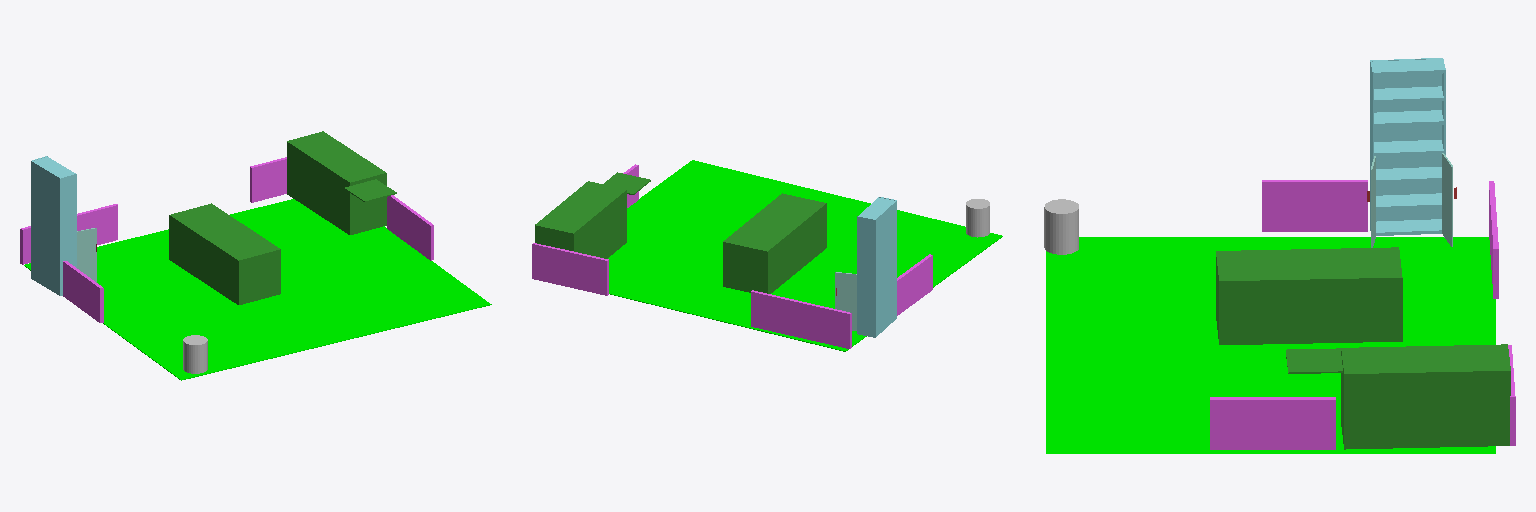
--- Facts derived from the render (not from the file) ---
The picture shows the robot from 3 angles, left to right: view 1: azimuth 30°, elevation 25°; view 2: azimuth 150°, elevation 25°; view 3: azimuth 270°, elevation 25°; orthographic projection.
Model iai-kitchen with 43 links and 42 joints (3 revolute, 39 fixed), rooted at urdf_main, posed all joints at 0.
Visible links, largest first — view 1: iai_kitchen:kitchen:room_center_link, dinner_table:dinner_table:table_center, kitchen_counter:kitchen_counter:table_center, shelf_hohc:kitchen_cabinet:shelf_back, wall_2_link, wall_3_link, wall_4_link, shelf_hohc:kitchen_cabinet:shelf_left_side, wall_1_link, shelf_hohc:kitchen_cabinet:shelf_door_left, trashcan:trashcan:trashcan_center, dishwasher_table:d_table:table_center; view 2: iai_kitchen:kitchen:room_center_link, dinner_table:dinner_table:table_center, kitchen_counter:kitchen_counter:table_center, wall_4_link, wall_1_link, shelf_hohc:kitchen_cabinet:shelf_back, shelf_hohc:kitchen_cabinet:shelf_right_side, wall_3_link, shelf_hohc:kitchen_cabinet:shelf_door_right, trashcan:trashcan:trashcan_center, dishwasher_table:d_table:table_center; view 3: iai_kitchen:kitchen:room_center_link, dinner_table:dinner_table:table_center, kitchen_counter:kitchen_counter:table_center, wall_2_link, wall_3_link, shelf_hohc:kitchen_cabinet:shelf_back, trashcan:trashcan:trashcan_center, dishwasher_table:d_table:table_center, shelf_hohc:kitchen_cabinet:shelf_floor_6, shelf_hohc:kitchen_cabinet:shelf_floor_4, shelf_hohc:kitchen_cabinet:shelf_floor_3, shelf_hohc:kitchen_cabinet:shelf_floor_5 (+5 smaller).
Link boxes in pixels (x1,y1,x2,y2): iai_kitchen:kitchen:room_center_link: (24,199,491,380); dinner_table:dinner_table:table_center: (169,203,280,304); kitchen_counter:kitchen_counter:table_center: (287,131,386,234); shelf_hohc:kitchen_cabinet:shelf_back: (31,161,60,295); wall_2_link: (387,195,433,260); wall_3_link: (63,261,103,322); wall_4_link: (20,204,117,264); shelf_hohc:kitchen_cabinet:shelf_left_side: (61,173,76,295); wall_1_link: (250,157,286,202); shelf_hohc:kitchen_cabinet:shelf_door_left: (77,228,96,282); trashcan:trashcan:trashcan_center: (183,335,207,373); dishwasher_table:d_table:table_center: (344,179,396,202); iai_kitchen:kitchen:room_center_link: (608,160,1002,351); dinner_table:dinner_table:table_center: (723,193,826,293); kitchen_counter:kitchen_counter:table_center: (535,181,626,258); wall_4_link: (751,290,851,348); wall_1_link: (532,243,608,295); shelf_hohc:kitchen_cabinet:shelf_back: (874,200,896,337); shelf_hohc:kitchen_cabinet:shelf_right_side: (857,216,874,337); wall_3_link: (897,254,932,315); shelf_hohc:kitchen_cabinet:shelf_door_right: (835,272,856,330); trashcan:trashcan:trashcan_center: (966,199,989,237); dishwasher_table:d_table:table_center: (604,172,650,194); iai_kitchen:kitchen:room_center_link: (1046,237,1495,453); dinner_table:dinner_table:table_center: (1216,247,1402,344); kitchen_counter:kitchen_counter:table_center: (1341,344,1510,449); wall_2_link: (1210,397,1335,449); wall_3_link: (1262,180,1367,231); shelf_hohc:kitchen_cabinet:shelf_back: (1370,58,1441,221); trashcan:trashcan:trashcan_center: (1044,199,1078,254); dishwasher_table:d_table:table_center: (1286,348,1342,373); shelf_hohc:kitchen_cabinet:shelf_floor_6: (1370,59,1445,75); shelf_hohc:kitchen_cabinet:shelf_floor_4: (1370,110,1445,126); shelf_hohc:kitchen_cabinet:shelf_floor_3: (1370,140,1445,156); shelf_hohc:kitchen_cabinet:shelf_floor_5: (1370,86,1443,103).
Bounding box of the posed robot: 5.77 × 5.13 × 2.08 m (x, y, z).
0 mesh visuals loaded from 3 distinct referenced files (none loaded); not drawn: 3 (reference not matched to a file when rendering).

URDF robot description (iai-kitchen):
<?xml version="1.0" ?>
<robot name="iai-kitchen" version="1.0">
  <material name="table_grey">
    <color rgba="0.255 0.62 0.223 1.0"/>
  </material>
  <material name="round_table_grey">
    <color rgba="0.8 0.8 0.8 1.0"/>
  </material>
  <material name="wall_pink">
    <color rgba="0.95 0.43 0.96 1.0"/>
  </material>
  <material name="shelf_blue">
    <color rgba="0.59 0.88 0.9 1.0"/>
  </material>
  <material name="shelf_door_green">
    <color rgba="0.64 0.87 0.82 1.0"/>
  </material>
  <material name="shelf_openable_handle_red">
    <color rgba="0.74 0.25 0.25 1.0"/>
  </material>
  <material name="shelf_hohc_handle_red">
    <color rgba="0.74 0.25 0.25 1.0"/>
  </material>
  <material name="door_green">
    <color rgba="0.0 0.31 0.22 1.0"/>
  </material>
  <material name="hinge_red">
    <color rgba="0.74 0.25 0.25 1.0"/>
  </material>
  <material name="handle_blue">
    <color rgba="0.3 0.5 0.78 1.0"/>
  </material>
  <material name="bucket_grey">
    <color rgba="0.8 0.8 0.8 1.0"/>
  </material>
  <material name="white">
    <color rgba="1.0 1.0 1.0 1.0"/>
  </material>
  <material name="orange">
    <color rgba="1.0 0.7 0.0 1.0"/>
  </material>
  <material name="handle_white">
    <color rgba="1.0 1.0 1.0 1.0"/>
  </material>
  <material name="bottom_white">
    <color rgba="1.0 1.0 1.0 1.0"/>
  </material>
  <material name="frame_wood">
    <color rgba="0.68 0.63 0.47 1.0"/>
  </material>
  <material name="handle_grey">
    <color rgba="0.7 0.7 0.7 1.0"/>
  </material>
  <material name="dishwasher_table_color">
    <color rgba="0.255 0.62 0.223 1.0"/>
  </material>
  <material name="dishwasher_robocup_table_color">
    <color rgba="0.255 0.62 0.223 1.0"/>
  </material>
  <material name="color_grey">
    <color rgba="0.8 0.8 0.8 1.0"/>
  </material>
  <material name="color_red">
    <color rgba="1.0 0.0 0.0 1.0"/>
  </material>
  <material name="color_blue">
    <color rgba="0.0 0.0 1.0 1.0"/>
  </material>
  <material name="simple_couch_color_grey">
    <color rgba="0.8 0.8 0.8 1.0"/>
  </material>
  <material name="simple_couch_color_red">
    <color rgba="1.0 0.0 0.0 1.0"/>
  </material>
  <material name="simple_couch_color_blue">
    <color rgba="0.0 0.0 1.0 1.0"/>
  </material>
  <material name="trashcan_color">
    <color rgba="0.8 0.8 0.8 1.0"/>
  </material>
  <material name="chair_color">
    <color rgba="0.0 0.0 0.5 1.0"/>
  </material>
  <material name="coathanger_color">
    <color rgba="0.255 0.62 0.223 1.0"/>
  </material>
  <material name="lamp_color">
    <color rgba="0.8 0.8 0.8 1.0"/>
  </material>
  <link name="dinner_table:dinner_table:table_center">
    <inertial>
      <origin xyz="0.0 0.0 0.0" rpy="0.0 0.0 0.0"/>
      <mass value="1.0"/>
      <inertia ixx="0.1" ixy="0.0" ixz="0.0" iyy="0.1" iyz="0.0" izz="0.1"/>
    </inertial>
    <visual>
      <origin xyz="0.0 0.0 -0.385" rpy="0.0 0.0 0.0"/>
      <geometry>
        <box size="0.782 2.0 0.77"/>
      </geometry>
      <material name="table_grey"/>
    </visual>
    <collision>
      <origin xyz="0.0 0.0 -0.385" rpy="0.0 0.0 0.0"/>
      <geometry>
        <box size="0.782 2.0 0.77"/>
      </geometry>
    </collision>
  </link>
  <link name="dinner_table:dinner_table:table_origin"/>
  <link name="dinner_table:dinner_table:table_front_edge_center"/>
  <joint name="dinner_table:dinner_table:table_origin_joint" type="fixed">
    <origin xyz="8.1 5.73 0.0" rpy="0.0 0.0 3.189"/>
    <parent link="urdf_offset"/>
    <child link="dinner_table:dinner_table:table_origin"/>
  </joint>
  <joint name="dinner_table:dinner_table:center_joint" type="fixed">
    <origin xyz="0.391 1.0 0.77" rpy="0.0 0.0 0.0"/>
    <parent link="dinner_table:dinner_table:table_origin"/>
    <child link="dinner_table:dinner_table:table_center"/>
  </joint>
  <joint name="dinner_table:dinner_table:table_front_edge_center_joint" type="fixed">
    <origin xyz="0.0 1.0 0.77" rpy="0.0 0.0 0.0"/>
    <parent link="dinner_table:dinner_table:table_origin"/>
    <child link="dinner_table:dinner_table:table_front_edge_center"/>
  </joint>
  <link name="kitchen_counter:kitchen_counter:table_center">
    <inertial>
      <origin xyz="0.0 0.0 0.0" rpy="0.0 0.0 0.0"/>
      <mass value="1.0"/>
      <inertia ixx="0.1" ixy="0.0" ixz="0.0" iyy="0.1" iyz="0.0" izz="0.1"/>
    </inertial>
    <visual>
      <origin xyz="0.0 0.0 -0.4525" rpy="0.0 0.0 0.0"/>
      <geometry>
        <box size="0.68 1.82 0.905"/>
      </geometry>
      <material name="table_grey"/>
    </visual>
    <collision>
      <origin xyz="0.0 0.0 -0.4525" rpy="0.0 0.0 0.0"/>
      <geometry>
        <box size="0.68 1.82 0.905"/>
      </geometry>
    </collision>
  </link>
  <link name="kitchen_counter:kitchen_counter:table_origin"/>
  <link name="kitchen_counter:kitchen_counter:table_front_edge_center"/>
  <joint name="kitchen_counter:kitchen_counter:table_origin_joint" type="fixed">
    <origin xyz="10.2 5.06 0.0" rpy="0.0 0.0 0.05"/>
    <parent link="urdf_offset"/>
    <child link="kitchen_counter:kitchen_counter:table_origin"/>
  </joint>
  <joint name="kitchen_counter:kitchen_counter:center_joint" type="fixed">
    <origin xyz="0.34 0.91 0.905" rpy="0.0 0.0 0.0"/>
    <parent link="kitchen_counter:kitchen_counter:table_origin"/>
    <child link="kitchen_counter:kitchen_counter:table_center"/>
  </joint>
  <joint name="kitchen_counter:kitchen_counter:table_front_edge_center_joint" type="fixed">
    <origin xyz="0.0 0.91 0.905" rpy="0.0 0.0 0.0"/>
    <parent link="kitchen_counter:kitchen_counter:table_origin"/>
    <child link="kitchen_counter:kitchen_counter:table_front_edge_center"/>
  </joint>
  <joint name="wall_1_center_joint" type="fixed">
    <origin xyz="10.14 6.91 0.3" rpy="0 0 0"/>
    <parent link="urdf_offset"/>
    <child link="wall_1_link"/>
  </joint>
  <link name="wall_1_link">
    <inertial>
      <origin xyz="0.0 0.0 0.0" rpy="0.0 0.0 0.0"/>
      <mass value="1.0"/>
      <inertia ixx="0.1" ixy="0.0" ixz="0.0" iyy="0.1" iyz="0.0" izz="0.1"/>
    </inertial>
    <visual>
      <origin xyz="0.0 0.0 0.0" rpy="0.0 0.0 0.03029375991877435"/>
      <geometry>
        <box size="1.3206059215375345 0.06 0.6"/>
      </geometry>
      <material name="wall_pink"/>
    </visual>
    <collision>
      <origin xyz="0.0 0.0 0.0" rpy="0.0 0.0 0.03029375991877435"/>
      <geometry>
        <box size="1.3206059215375345 0.06 0.6"/>
      </geometry>
    </collision>
  </link>
  <joint name="wall_2_center_joint" type="fixed">
    <origin xyz="10.85 4.3149999999999995 0.3" rpy="0 0 0"/>
    <parent link="urdf_offset"/>
    <child link="wall_2_link"/>
  </joint>
  <link name="wall_2_link">
    <inertial>
      <origin xyz="0.0 0.0 0.0" rpy="0.0 0.0 0.0"/>
      <mass value="1.0"/>
      <inertia ixx="0.1" ixy="0.0" ixz="0.0" iyy="0.1" iyz="0.0" izz="0.1"/>
    </inertial>
    <visual>
      <origin xyz="0.0 0.0 0.0" rpy="0.0 0.0 1.5707963267948966"/>
      <geometry>
        <box size="1.37 0.06 0.6"/>
      </geometry>
      <material name="wall_pink"/>
    </visual>
    <collision>
      <origin xyz="0.0 0.0 0.0" rpy="0.0 0.0 1.5707963267948966"/>
      <geometry>
        <box size="1.37 0.06 0.6"/>
      </geometry>
    </collision>
  </link>
  <joint name="wall_3_center_joint" type="fixed">
    <origin xyz="5.25 4.775 0.3" rpy="0 0 0"/>
    <parent link="urdf_offset"/>
    <child link="wall_3_link"/>
  </joint>
  <link name="wall_3_link">
    <inertial>
      <origin xyz="0.0 0.0 0.0" rpy="0.0 0.0 0.0"/>
      <mass value="1.0"/>
      <inertia ixx="0.1" ixy="0.0" ixz="0.0" iyy="0.1" iyz="0.0" izz="0.1"/>
    </inertial>
    <visual>
      <origin xyz="0.0 0.0 0.0" rpy="0.0 0.0 1.5707963267948966"/>
      <geometry>
        <box size="1.1499999999999995 0.06 0.6"/>
      </geometry>
      <material name="wall_pink"/>
    </visual>
    <collision>
      <origin xyz="0.0 0.0 0.0" rpy="0.0 0.0 1.5707963267948966"/>
      <geometry>
        <box size="1.1499999999999995 0.06 0.6"/>
      </geometry>
    </collision>
  </link>
  <joint name="wall_4_center_joint" type="fixed">
    <origin xyz="6.125 6.725 0.3" rpy="0 0 0"/>
    <parent link="urdf_offset"/>
    <child link="wall_4_link"/>
  </joint>
  <link name="wall_4_link">
    <inertial>
      <origin xyz="0.0 0.0 0.0" rpy="0.0 0.0 0.0"/>
      <mass value="1.0"/>
      <inertia ixx="0.1" ixy="0.0" ixz="0.0" iyy="0.1" iyz="0.0" izz="0.1"/>
    </inertial>
    <visual>
      <origin xyz="0.0 0.0 0.0" rpy="0.0 0.0 0.02856365783875954"/>
      <geometry>
        <box size="1.7507141400011597 0.06 0.6"/>
      </geometry>
      <material name="wall_pink"/>
    </visual>
    <collision>
      <origin xyz="0.0 0.0 0.0" rpy="0.0 0.0 0.02856365783875954"/>
      <geometry>
        <box size="1.7507141400011597 0.06 0.6"/>
      </geometry>
    </collision>
  </link>
  <joint name="world_iai_kitchen:kitchen:room_joint" type="fixed">
    <origin xyz="8.1 4.3 -0.05" rpy="0.0 0.0 0.0"/>
    <parent link="urdf_offset"/>
    <child link="iai_kitchen:kitchen:room_center_link"/>
  </joint>
  <link name="iai_kitchen:kitchen:room_center_link">
    <inertial>
      <origin xyz="0.0 0.0 0.0" rpy="0.0 0.0 0.0"/>
      <mass value="1.0"/>
      <inertia ixx="0.1" ixy="0.0" ixz="0.0" iyy="0.1" iyz="0.0" izz="0.1"/>
    </inertial>
    <visual>
      <geometry>
        <box size="5.57 4.9 0.01"/>
      </geometry>
      <material name="iai_kitchen:kitchen:color">
        <color rgba="0.0 1.0 0.0 0.1"/>
      </material>
    </visual>
    <collision>
      <geometry>
        <box size="5.57 4.9 0.01"/>
      </geometry>
    </collision>
  </link>
  <joint name="room_kitchen_living_room_entry_exit:entry_exit:connection_joint" type="fixed">
    <origin xyz="0.7100000000000009 -4.08 0.0" rpy="0.0 0.0 0.0"/>
    <parent link="iai_kitchen:kitchen:room_center_link"/>
    <child link="kitchen_living_room_entry_exit:entry_exit:link"/>
  </joint>
  <link name="kitchen_living_room_entry_exit:entry_exit:link"/>
  <joint name="room_kitchen_office_entry_exit:entry_exit:connection_joint" type="fixed">
    <origin xyz="-2.76 -0.7199999999999998 0.0" rpy="0.0 0.0 0.0"/>
    <parent link="iai_kitchen:kitchen:room_center_link"/>
    <child link="kitchen_office_entry_exit:entry_exit:link"/>
  </joint>
  <link name="kitchen_office_entry_exit:entry_exit:link"/>
  <link name="dishwasher_main">
    <inertial>
      <origin xyz="0.0 0.0 0.0" rpy="0.0 0.0 0.0"/>
      <mass value="1.0"/>
      <inertia ixx="1.0" ixy="0.0" ixz="0.0" iyy="1.0" iyz="0.0" izz="1.0"/>
    </inertial>
  </link>
  <joint name="dishwasher_main" type="fixed">
    <origin xyz="10.4 4.77 0.0" rpy="0.0 0.0 3.19"/>
    <parent link="urdf_offset"/>
    <child link="dishwasher_main"/>
  </joint>
  <link name="sink_area_dish_washer_main">
    <inertial>
      <origin xyz="0.0 0.0 0.0" rpy="0.0 0.0 0.0"/>
      <mass value="1.0"/>
      <inertia ixx="1.0" ixy="0.0" ixz="0.0" iyy="1.0" iyz="0.0" izz="1.0"/>
    </inertial>
    <visual>
      <origin xyz="0.0 0.0 0.0" rpy="0.0 0.0 0.0"/>
      <geometry>
        <mesh filename="package://iai_kitchen/meshes/misc/DishWasher.obj"/>
      </geometry>
    </visual>
    <collision>
      <origin xyz="0.0 0.0 0.0" rpy="0.0 0.0 0.0"/>
      <geometry>
        <mesh filename="package://iai_kitchen/meshes/misc/DishWasher.obj"/>
      </geometry>
    </collision>
  </link>
  <link name="sink_area_dish_washer_door">
    <inertial>
      <origin xyz="0.0 0.0 0.0" rpy="0.0 0.0 0.0"/>
      <mass value="1.0"/>
      <inertia ixx="1.0" ixy="0.0" ixz="0.0" iyy="1.0" iyz="0.0" izz="1.0"/>
    </inertial>
    <visual>
      <origin xyz="0.0 0.0 0.0" rpy="1.57079632679 0.0 0.0"/>
      <geometry>
        <mesh filename="package://iai_kitchen/meshes/misc/DishWasherDoor.obj"/>
      </geometry>
    </visual>
    <collision>
      <origin xyz="0.0 0.0 0.0" rpy="1.57079632679 0.0 0.0"/>
      <geometry>
        <mesh filename="package://iai_kitchen/meshes/misc/DishWasherDoor.obj"/>
      </geometry>
    </collision>
  </link>
  <gazebo reference="sink_area_dish_washer_door">
    <turnGravityOff>true</turnGravityOff>
  </gazebo>
  <link name="sink_area_dish_washer_door_handle">
    <inertial>
      <origin xyz="0.1 0.0 0.0" rpy="0.0 0.0 0.0"/>
      <mass value="1.0"/>
      <inertia ixx="1.0" ixy="0.0" ixz="0.0" iyy="1.0" iyz="0.0" izz="1.0"/>
    </inertial>
    <visual>
      <origin xyz="0.01 0.0 0.0" rpy="0.0 0.0 0.0"/>
      <geometry>
        <mesh filename="package://iai_kitchen/meshes/handles/Handle60.obj"/>
      </geometry>
    </visual>
    <collision>
      <origin xyz="0.01 0.0 0.0" rpy="0.0 0.0 0.0"/>
      <geometry>
        <mesh filename="package://iai_kitchen/meshes/handles/Handle60.obj"/>
      </geometry>
    </collision>
  </link>
  <gazebo reference="sink_area_dish_washer_door_handle">
    <turnGravityOff>true</turnGravityOff>
  </gazebo>
  <link name="dishwasher_tab"/>
  <link name="dishwasher_table:d_table:d_table_origin"/>
  <link name="dishwasher_table:d_table:table_front_edge_center"/>
  <link name="dishwasher_table:d_table:table_center">
    <visual>
      <origin xyz="0.0 0.0 0.0" rpy="0.0 0.0 0.0"/>
      <geometry>
        <box size="0.593 0.6 0.02"/>
      </geometry>
      <material name="dishwasher_robocup_table_color"/>
    </visual>
    <collision>
      <origin xyz="0.0 0.0 0.0" rpy="0.0 0.0 0.0"/>
      <geometry>
        <box size="0.593 0.6 0.02"/>
      </geometry>
    </collision>
  </link>
  <joint name="dishwasher_tab_joint" type="fixed">
    <origin xyz="-0.1 0.1 0.15" rpy="0.0 0.0 0.0"/>
    <parent link="sink_area_dish_washer_door_handle"/>
    <child link="dishwasher_tab"/>
  </joint>
  <joint name="sink_area_dish_washer_main_joint" type="fixed">
    <origin xyz="0.0 0.0 0.44" rpy="0.0 0.0 0.0"/>
    <axis xyz="1.0 0.0 0.0"/>
    <parent link="dishwasher_main"/>
    <child link="sink_area_dish_washer_main"/>
  </joint>
  <joint name="sink_area_dish_washer_door_joint" type="revolute">
    <origin xyz="0.27 0.0 -0.325" rpy="-1.57079632679 0.03 0.0"/>
    <axis xyz="0.0 0.0 1.0"/>
    <parent link="sink_area_dish_washer_main"/>
    <child link="sink_area_dish_washer_door"/>
    <limit effort="300.0" lower="0.0" upper="1.57079632679" velocity="10.0"/>
  </joint>
  <joint name="sink_area_dish_washer_door_handle_joint" type="fixed">
    <origin xyz="0.0625 -0.6625 0.0" rpy="-1.57079632679 0.0 0.0"/>
    <parent link="sink_area_dish_washer_door"/>
    <child link="sink_area_dish_washer_door_handle"/>
  </joint>
  <joint name="dish_washer_table_main_joint" type="fixed">
    <origin xyz="0.0 0.0 0.3971" rpy="0.0 0.0 3.141592653589793"/>
    <parent link="sink_area_dish_washer_main"/>
    <child link="dishwasher_table:d_table:d_table_origin"/>
  </joint>
  <joint name="dish_washer_table_center_joint" type="fixed">
    <origin xyz="-0.3 0.0 0.0" rpy="0.0 0.0 0.0"/>
    <parent link="dishwasher_table:d_table:d_table_origin"/>
    <child link="dishwasher_table:d_table:table_front_edge_center"/>
  </joint>
  <joint name="dish_washer_table_edge_joint" type="fixed">
    <origin xyz="0.0 0.0 0.0" rpy="0.0 0.0 0.0"/>
    <parent link="dishwasher_table:d_table:d_table_origin"/>
    <child link="dishwasher_table:d_table:table_center"/>
  </joint>
  <link name="shelf_hohc:kitchen_cabinet:shelf_origin"/>
  <link name="shelf_hohc:kitchen_cabinet:shelf_center"/>
  <link name="shelf_hohc:kitchen_cabinet:shelf_base_center"/>
  <joint name="shelf_hohc:kitchen_cabinet:shelf_origin_joint" type="fixed">
    <origin xyz="5.42 6.2 0.0" rpy="0.0 0.0 3.23"/>
    <parent link="urdf_offset"/>
    <child link="shelf_hohc:kitchen_cabinet:shelf_origin"/>
  </joint>
  <joint name="shelf_hohc:kitchen_cabinet:shelf_center_joint" type="fixed">
    <origin xyz="0.15 0.4 1.01" rpy="0.0 0.0 0.0"/>
    <parent link="shelf_hohc:kitchen_cabinet:shelf_origin"/>
    <child link="shelf_hohc:kitchen_cabinet:shelf_center"/>
  </joint>
  <joint name="shelf_hohc:kitchen_cabinet:shelf_base_center_joint" type="fixed">
    <origin xyz="0.15 0.4 0.0" rpy="0.0 0.0 0.0"/>
    <parent link="shelf_hohc:kitchen_cabinet:shelf_origin"/>
    <child link="shelf_hohc:kitchen_cabinet:shelf_base_center"/>
  </joint>
  <link name="shelf_hohc:kitchen_cabinet:shelf_back">
    <inertial>
      <origin xyz="0.0 0.0 0.0" rpy="0.0 0.0 0.0"/>
      <mass value="1.0"/>
      <inertia ixx="0.1" ixy="0.0" ixz="0.0" iyy="0.1" iyz="0.0" izz="0.1"/>
    </inertial>
    <visual>
      <origin xyz="0.0 0.0 0.0" rpy="0.0 0.0 0.0"/>
      <geometry>
        <box size="0.02 0.8 2.02"/>
      </geometry>
      <material name="shelf_blue"/>
    </visual>
    <collision>
      <origin xyz="0.0 0.0 0.0" rpy="0.0 0.0 0.0"/>
      <geometry>
        <box size="0.02 0.8 2.02"/>
      </geometry>
    </collision>
  </link>
  <joint name="shelf_hohc:kitchen_cabinet:shelf_back:joint" type="fixed">
    <origin xyz="0.3 0.4 1.01" rpy="0.0 0.0 0.0"/>
    <parent link="shelf_hohc:kitchen_cabinet:shelf_origin"/>
    <child link="shelf_hohc:kitchen_cabinet:shelf_back"/>
  </joint>
  <link name="shelf_hohc:kitchen_cabinet:shelf_right_side">
    <inertial>
      <origin xyz="0.0 0.0 0.0" rpy="0.0 0.0 0.0"/>
      <mass value="1.0"/>
      <inertia ixx="0.1" ixy="0.0" ixz="0.0" iyy="0.1" iyz="0.0" izz="0.1"/>
    </inertial>
    <visual>
      <origin xyz="0.0 0.0 0.0" rpy="0.0 0.0 0.0"/>
      <geometry>
        <box size="0.3 0.02 2.02"/>
      </geometry>
      <material name="shelf_blue"/>
    </visual>
    <collision>
      <origin xyz="0.0 0.0 0.0" rpy="0.0 0.0 0.0"/>
      <geometry>
        <box size="0.3 0.02 2.02"/>
      </geometry>
    </collision>
  </link>
  <joint name="shelf_hohc:kitchen_cabinet:shelf_right_side:joint" type="fixed">
    <origin xyz="0.15 0.01 1.01" rpy="0.0 0.0 0.0"/>
    <parent link="shelf_hohc:kitchen_cabinet:shelf_origin"/>
    <child link="shelf_hohc:kitchen_cabinet:shelf_right_side"/>
  </joint>
  <link name="shelf_hohc:kitchen_cabinet:shelf_left_side">
    <inertial>
      <origin xyz="0.0 0.0 0.0" rpy="0.0 0.0 0.0"/>
      <mass value="1.0"/>
      <inertia ixx="0.1" ixy="0.0" ixz="0.0" iyy="0.1" iyz="0.0" izz="0.1"/>
    </inertial>
    <visual>
      <origin xyz="0.0 0.0 0.0" rpy="0.0 0.0 0.0"/>
      <geometry>
        <box size="0.3 0.02 2.02"/>
      </geometry>
      <material name="shelf_blue"/>
    </visual>
    <collision>
      <origin xyz="0.0 0.0 0.0" rpy="0.0 0.0 0.0"/>
      <geometry>
        <box size="0.3 0.02 2.02"/>
      </geometry>
    </collision>
  </link>
  <joint name="shelf_hohc:kitchen_cabinet:shelf_left_side:joint" type="fixed">
    <origin xyz="0.15 0.79 1.01" rpy="0.0 0.0 0.0"/>
    <parent link="shelf_hohc:kitchen_cabinet:shelf_origin"/>
    <child link="shelf_hohc:kitchen_cabinet:shelf_left_side"/>
  </joint>
  <link name="shelf_hohc:kitchen_cabinet:shelf_floor_0">
    <inertial>
      <origin xyz="0.0 0.0 0.0" rpy="0.0 0.0 0.0"/>
      <mass value="1.0"/>
      <inertia ixx="0.1" ixy="0.0" ixz="0.0" iyy="0.1" iyz="0.0" izz="0.1"/>
    </inertial>
    <visual>
      <origin xyz="0.0 0.0 -0.02" rpy="0.0 0.0 0.0"/>
      <geometry>
        <box size="0.3 0.8 0.04"/>
      </geometry>
      <material name="shelf_blue"/>
    </visual>
    <collision>
      <origin xyz="0.0 0.0 -0.02" rpy="0.0 0.0 0.0"/>
      <geometry>
        <box size="0.3 0.8 0.04"/>
      </geometry>
    </collision>
  </link>
  <joint name="shelf_hohc:kitchen_cabinet:shelf_floor_0:joint" type="fixed">
    <origin xyz="0.0 0.0 0.09" rpy="0.0 0.0 0.0"/>
    <parent link="shelf_hohc:kitchen_cabinet:shelf_base_center"/>
    <child link="shelf_hohc:kitchen_cabinet:shelf_floor_0"/>
  </joint>
  <link name="shelf_hohc:kitchen_cabinet:shelf_floor_1">
    <inertial>
      <origin xyz="0.0 0.0 0.0" rpy="0.0 0.0 0.0"/>
      <mass value="1.0"/>
      <inertia ixx="0.1" ixy="0.0" ixz="0.0" iyy="0.1" iyz="0.0" izz="0.1"/>
    </inertial>
    <visual>
      <origin xyz="0.0 0.0 -0.02" rpy="0.0 0.0 0.0"/>
      <geometry>
        <box size="0.3 0.8 0.04"/>
      </geometry>
      <material name="shelf_blue"/>
    </visual>
    <collision>
      <origin xyz="0.0 0.0 -0.02" rpy="0.0 0.0 0.0"/>
      <geometry>
        <box size="0.3 0.8 0.04"/>
      </geometry>
    </collision>
  </link>
  <joint name="shelf_hohc:kitchen_cabinet:shelf_floor_1:joint" type="fixed">
    <origin xyz="0.0 0.0 0.4" rpy="0.0 0.0 0.0"/>
    <parent link="shelf_hohc:kitchen_cabinet:shelf_base_center"/>
    <child link="shelf_hohc:kitchen_cabinet:shelf_floor_1"/>
  </joint>
  <link name="shelf_hohc:kitchen_cabinet:shelf_floor_2">
    <inertial>
      <origin xyz="0.0 0.0 0.0" rpy="0.0 0.0 0.0"/>
      <mass value="1.0"/>
      <inertia ixx="0.1" ixy="0.0" ixz="0.0" iyy="0.1" iyz="0.0" izz="0.1"/>
    </inertial>
    <visual>
      <origin xyz="0.0 0.0 -0.02" rpy="0.0 0.0 0.0"/>
      <geometry>
        <box size="0.3 0.8 0.04"/>
      </geometry>
      <material name="shelf_blue"/>
    </visual>
    <collision>
      <origin xyz="0.0 0.0 -0.02" rpy="0.0 0.0 0.0"/>
      <geometry>
        <box size="0.3 0.8 0.04"/>
      </geometry>
    </collision>
  </link>
  <joint name="shelf_hohc:kitchen_cabinet:shelf_floor_2:joint" type="fixed">
    <origin xyz="0.0 0.0 0.72" rpy="0.0 0.0 0.0"/>
    <parent link="shelf_hohc:kitchen_cabinet:shelf_base_center"/>
    <child link="shelf_hohc:kitchen_cabinet:shelf_floor_2"/>
  </joint>
  <link name="shelf_hohc:kitchen_cabinet:shelf_floor_3">
    <inertial>
      <origin xyz="0.0 0.0 0.0" rpy="0.0 0.0 0.0"/>
      <mass value="1.0"/>
      <inertia ixx="0.1" ixy="0.0" ixz="0.0" iyy="0.1" iyz="0.0" izz="0.1"/>
    </inertial>
    <visual>
      <origin xyz="0.0 0.0 -0.02" rpy="0.0 0.0 0.0"/>
      <geometry>
        <box size="0.3 0.8 0.04"/>
      </geometry>
      <material name="shelf_blue"/>
    </visual>
    <collision>
      <origin xyz="0.0 0.0 -0.02" rpy="0.0 0.0 0.0"/>
      <geometry>
        <box size="0.3 0.8 0.04"/>
      </geometry>
    </collision>
  </link>
  <joint name="shelf_hohc:kitchen_cabinet:shelf_floor_3:joint" type="fixed">
    <origin xyz="0.0 0.0 1.045" rpy="0.0 0.0 0.0"/>
    <parent link="shelf_hohc:kitchen_cabinet:shelf_base_center"/>
    <child link="shelf_hohc:kitchen_cabinet:shelf_floor_3"/>
  </joint>
  <link name="shelf_hohc:kitchen_cabinet:shelf_floor_4">
    <inertial>
      <origin xyz="0.0 0.0 0.0" rpy="0.0 0.0 0.0"/>
      <mass value="1.0"/>
      <inertia ixx="0.1" ixy="0.0" ixz="0.0" iyy="0.1" iyz="0.0" izz="0.1"/>
    </inertial>
    <visual>
      <origin xyz="0.0 0.0 -0.02" rpy="0.0 0.0 0.0"/>
      <geometry>
        <box size="0.3 0.8 0.04"/>
      </geometry>
      <material name="shelf_blue"/>
    </visual>
    <collision>
      <origin xyz="0.0 0.0 -0.02" rpy="0.0 0.0 0.0"/>
      <geometry>
        <box size="0.3 0.8 0.04"/>
      </geometry>
    </collision>
  </link>
  <joint name="shelf_hohc:kitchen_cabinet:shelf_floor_4:joint" type="fixed">
    <origin xyz="0.0 0.0 1.4" rpy="0.0 0.0 0.0"/>
    <parent link="shelf_hohc:kitchen_cabinet:shelf_base_center"/>
    <child link="shelf_hohc:kitchen_cabinet:shelf_floor_4"/>
  </joint>
  <link name="shelf_hohc:kitchen_cabinet:shelf_floor_5">
    <inertial>
      <origin xyz="0.0 0.0 0.0" rpy="0.0 0.0 0.0"/>
      <mass value="1.0"/>
      <inertia ixx="0.1" ixy="0.0" ixz="0.0" iyy="0.1" iyz="0.0" izz="0.1"/>
    </inertial>
    <visual>
      <origin xyz="0.0 0.0 -0.02" rpy="0.0 0.0 0.0"/>
      <geometry>
        <box size="0.3 0.8 0.04"/>
      </geometry>
      <material name="shelf_blue"/>
    </visual>
    <collision>
      <origin xyz="0.0 0.0 -0.02" rpy="0.0 0.0 0.0"/>
      <geometry>
        <box size="0.3 0.8 0.04"/>
      </geometry>
    </collision>
  </link>
  <joint name="shelf_hohc:kitchen_cabinet:shelf_floor_5:joint" type="fixed">
    <origin xyz="0.0 0.0 1.685" rpy="0.0 0.0 0.0"/>
    <parent link="shelf_hohc:kitchen_cabinet:shelf_base_center"/>
    <child link="shelf_hohc:kitchen_cabinet:shelf_floor_5"/>
  </joint>
  <link name="shelf_hohc:kitchen_cabinet:shelf_floor_6">
    <inertial>
      <origin xyz="0.0 0.0 0.0" rpy="0.0 0.0 0.0"/>
      <mass value="1.0"/>
      <inertia ixx="0.1" ixy="0.0" ixz="0.0" iyy="0.1" iyz="0.0" izz="0.1"/>
    </inertial>
    <visual>
      <origin xyz="0.0 0.0 -0.02" rpy="0.0 0.0 0.0"/>
      <geometry>
        <box size="0.3 0.8 0.04"/>
      </geometry>
      <material name="shelf_blue"/>
    </visual>
    <collision>
      <origin xyz="0.0 0.0 -0.02" rpy="0.0 0.0 0.0"/>
      <geometry>
        <box size="0.3 0.8 0.04"/>
      </geometry>
    </collision>
  </link>
  <joint name="shelf_hohc:kitchen_cabinet:shelf_floor_6:joint" type="fixed">
    <origin xyz="0.0 0.0 2.015" rpy="0.0 0.0 0.0"/>
    <parent link="shelf_hohc:kitchen_cabinet:shelf_base_center"/>
    <child link="shelf_hohc:kitchen_cabinet:shelf_floor_6"/>
  </joint>
  <link name="shelf_hohc:kitchen_cabinet:shelf_door_right">
    <inertial>
      <origin xyz="0.0 0.0 0.0" rpy="0.0 0.0 0.0"/>
      <mass value="1.0"/>
      <inertia ixx="0.1" ixy="0.0" ixz="0.0" iyy="0.1" iyz="0.0" izz="0.1"/>
    </inertial>
    <visual>
      <origin xyz="0.0 0.18 0.0" rpy="0.0 0.0 0.0"/>
      <geometry>
        <box size="0.02 0.38 0.97"/>
      </geometry>
      <material name="shelf_door_green"/>
    </visual>
    <collision>
      <origin xyz="0.0 0.18 0.0" rpy="0.0 0.0 0.0"/>
      <geometry>
        <box size="0.02 0.38 0.97"/>
      </geometry>
    </collision>
  </link>
  <link name="shelf_hohc:kitchen_cabinet:shelf_door_right:handle">
    <inertial>
      <origin xyz="0.0 0.0 0.0" rpy="0.0 0.0 0.0"/>
      <mass value="1.0"/>
      <inertia ixx="0.1" ixy="0.0" ixz="0.0" iyy="0.1" iyz="0.0" izz="0.1"/>
    </inertial>
    <visual>
      <origin xyz="0.0 0.0 0.0" rpy="0.0 0.0 0.0"/>
      <geometry>
        <box size="0.035 0.005 0.135"/>
      </geometry>
      <material name="shelf_hohc_handle_red"/>
    </visual>
    <collision>
      <origin xyz="0.0 0.0 0.0" rpy="0.0 0.0 0.0"/>
      <geometry>
        <box size="0.035 0.005 0.135"/>
      </geometry>
    </collision>
  </link>
  <joint name="shelf_hohc:kitchen_cabinet:shelf_door_right:handle_joint" type="fixed">
    <origin xyz="-0.037500000000000006 0.3525 0.15249999999999997" rpy="0.0 0.0 0.0"/>
    <axis xyz="0.0 0.0 1.0"/>
    <parent link="shelf_hohc:kitchen_cabinet:shelf_door_right"/>
    <child link="shelf_hohc:kitchen_cabinet:shelf_door_right:handle"/>
  </joint>
  <joint name="shelf_hohc:kitchen_cabinet:shelf_door_right:joint" type="revolute">
    <origin xyz="-0.13999999999999999 0.02 -0.48" rpy="0.0 0.0 1.77"/>
    <axis xyz="0.0 0.0 1.0"/>
    <parent link="shelf_hohc:kitchen_cabinet:shelf_right_side"/>
    <child link="shelf_hohc:kitchen_cabinet:shelf_door_right"/>
    <limit effort="30.0" lower="0.0" upper="1.7" velocity="1.0"/>
  </joint>
  <link name="shelf_hohc:kitchen_cabinet:shelf_door_left">
    <inertial>
      <origin xyz="0.0 0.0 0.0" rpy="0.0 0.0 0.0"/>
      <mass value="1.0"/>
      <inertia ixx="0.1" ixy="0.0" ixz="0.0" iyy="0.1" iyz="0.0" izz="0.1"/>
    </inertial>
    <visual>
      <origin xyz="0.0 -0.18 0.0" rpy="0.0 0.0 0.0"/>
      <geometry>
        <box size="0.02 0.38 0.97"/>
      </geometry>
      <material name="shelf_door_green"/>
    </visual>
    <collision>
      <origin xyz="0.0 -0.18 0.0" rpy="0.0 0.0 0.0"/>
      <geometry>
        <box size="0.02 0.38 0.97"/>
      </geometry>
    </collision>
  </link>
  <link name="shelf_hohc:kitchen_cabinet:shelf_door_left:handle">
    <inertial>
      <origin xyz="0.0 0.0 0.0" rpy="0.0 0.0 0.0"/>
      <mass value="1.0"/>
      <inertia ixx="0.1" ixy="0.0" ixz="0.0" iyy="0.1" iyz="0.0" izz="0.1"/>
    </inertial>
    <visual>
      <origin xyz="0.0 0.0 0.0" rpy="0.0 0.0 0.0"/>
      <geometry>
        <box size="0.035 0.005 0.135"/>
      </geometry>
      <material name="shelf_hohc_handle_red"/>
    </visual>
    <collision>
      <origin xyz="0.0 0.0 0.0" rpy="0.0 0.0 0.0"/>
      <geometry>
        <box size="0.035 0.005 0.135"/>
      </geometry>
    </collision>
  </link>
  <joint name="shelf_hohc:kitchen_cabinet:shelf_door_left:handle_joint" type="fixed">
    <origin xyz="-0.037500000000000006 -0.3525 0.15249999999999997" rpy="0.0 0.0 0.0"/>
    <axis xyz="0.0 0.0 1.0"/>
    <parent link="shelf_hohc:kitchen_cabinet:shelf_door_left"/>
    <child link="shelf_hohc:kitchen_cabinet:shelf_door_left:handle"/>
  </joint>
  <joint name="shelf_hohc:kitchen_cabinet:shelf_door_left:joint" type="revolute">
    <origin xyz="-0.13999999999999999 -0.02 -0.48" rpy="0.0 0.0 -1.77"/>
    <axis xyz="0.0 0.0 1.0"/>
    <parent link="shelf_hohc:kitchen_cabinet:shelf_left_side"/>
    <child link="shelf_hohc:kitchen_cabinet:shelf_door_left"/>
    <limit effort="30.0" lower="-1.7" upper="0.0" velocity="1.0"/>
  </joint>
  <link name="trashcan:trashcan:trashcan_center">
    <inertial>
      <origin xyz="0.0 0.0 0.0" rpy="0.0 0.0 0.0"/>
      <mass value="1.0"/>
      <inertia ixx="0.1" ixy="0.0" ixz="0.0" iyy="0.1" iyz="0.0" izz="0.1"/>
    </inertial>
    <visual>
      <origin xyz="0.0 0.0 -0.245" rpy="0.0 0.0 0.0"/>
      <geometry>
        <cylinder radius="0.19" length="0.49"/>
      </geometry>
      <material name="trashcan_color"/>
    </visual>
    <collision>
      <origin xyz="0.0 0.0 -0.245" rpy="0.0 0.0 0.0"/>
      <geometry>
        <cylinder radius="0.19" length="0.49"/>
      </geometry>
    </collision>
  </link>
  <link name="trashcan:trashcan:trashcan_origin"/>
  <link name="trashcan:trashcan:trashcan_front_edge_center"/>
  <joint name="trashcan:trashcan:trashcan_origin_joint" type="fixed">
    <origin xyz="5.86 2.03 0.0" rpy="0.0 0.0 3.2"/>
    <parent link="urdf_offset"/>
    <child link="trashcan:trashcan:trashcan_origin"/>
  </joint>
  <joint name="trashcan:trashcan:center_joint" type="fixed">
    <origin xyz="0.19 0.0 0.49" rpy="0.0 0.0 0.0"/>
    <parent link="trashcan:trashcan:trashcan_origin"/>
    <child link="trashcan:trashcan:trashcan_center"/>
  </joint>
  <joint name="trashcan:trashcan:trashcan_front_edge_center_joint" type="fixed">
    <origin xyz="0.0 0.0 0.49" rpy="0.0 0.0 0.0"/>
    <parent link="trashcan:trashcan:trashcan_origin"/>
    <child link="trashcan:trashcan:trashcan_front_edge_center"/>
  </joint>
  <link name="urdf_main"/>
  <joint name="map_urdf_joint" type="fixed">
    <origin xyz="0.0 0.0 0.0" rpy="0.0 0.0 0.0"/>
    <parent link="urdf_main"/>
    <child link="urdf_offset"/>
  </joint>
  <link name="urdf_offset"/>
</robot>
